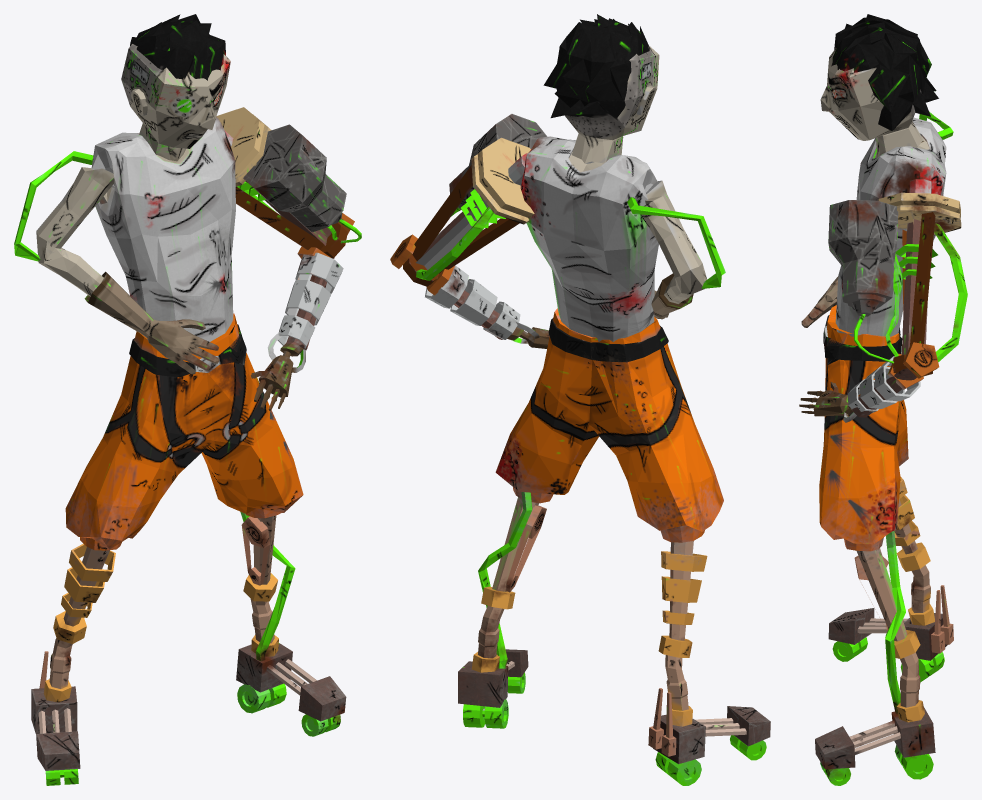
File: CyborgFINALAnimation_000067.obj
3 views of the same model, side by side, from view 1: azimuth 30°, elevation 25°; view 2: azimuth 150°, elevation 25°; view 3: azimuth 270°, elevation 25° (orthographic). The views are drawn at different scales.
Parts seen in each view (by area): view 1: CyborgMesh_Cube.002; view 2: CyborgMesh_Cube.002; view 3: CyborgMesh_Cube.002.
Part boxes in pixels (bbox=[...]): CyborgMesh_Cube.002: bbox=[14, 14, 361, 785]; CyborgMesh_Cube.002: bbox=[390, 14, 770, 785]; CyborgMesh_Cube.002: bbox=[799, 14, 967, 785].
Bounding box in the file's own units: 4.76 × 9.57 × 2.08.
